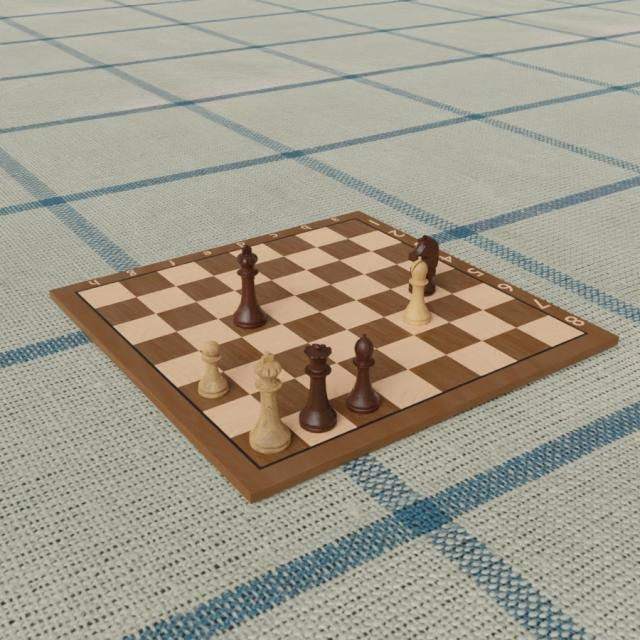black-bishop: (345, 332, 381, 415)
black-king: (232, 240, 266, 332)
black-knight: (407, 234, 441, 298)
black-queen: (297, 340, 339, 433)
white-bishop: (400, 256, 433, 326)
white-king: (247, 351, 292, 457)
white-pawn: (196, 339, 231, 402)
